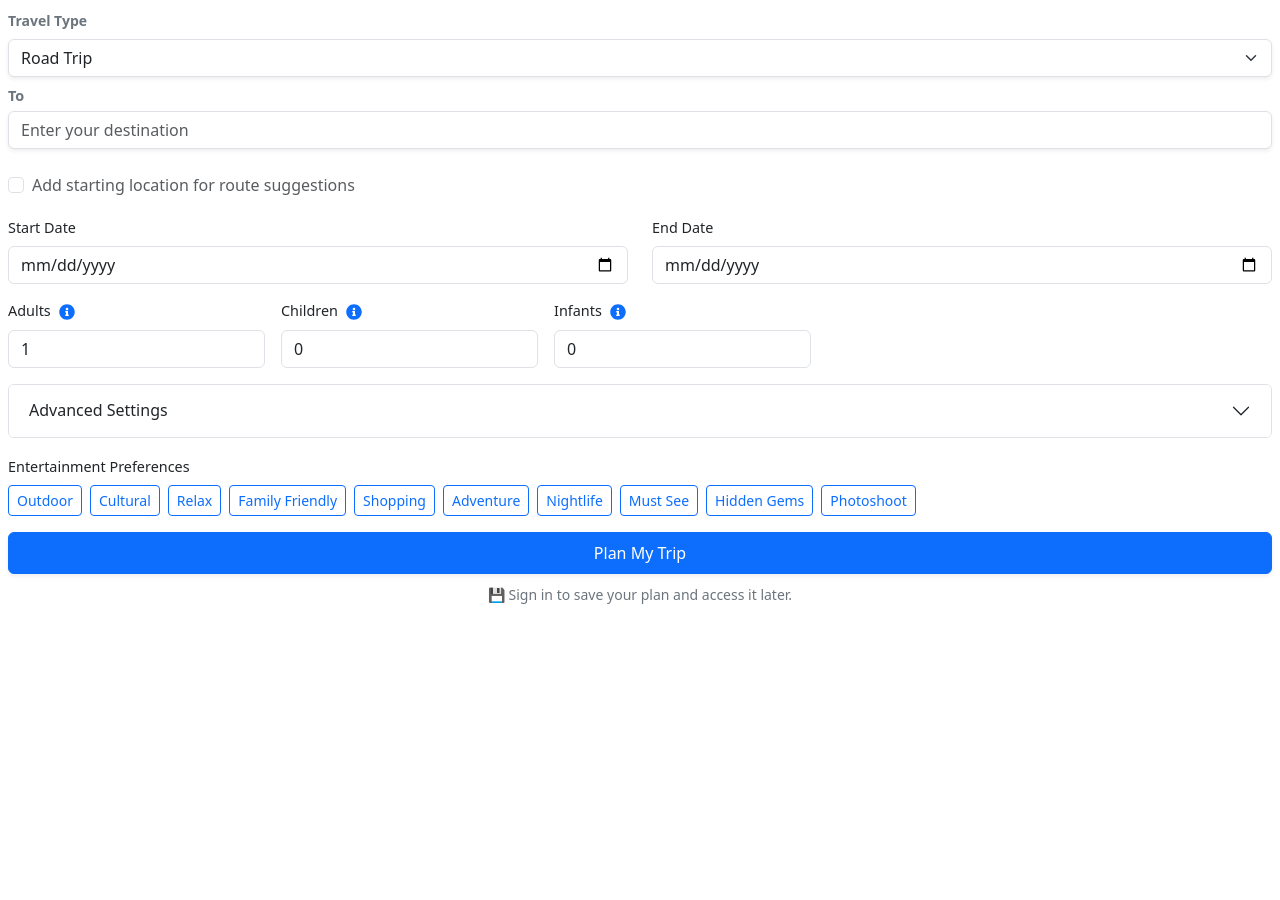
Scenario: TripForm Photoshoot Feature › hides photoshoot mode dropdown when photoshoot preference is deselected
Note: Select photoshoot preference
Click the button "photoshoot" at {"x": 869, "y": 501}, box [821,485,916,516]
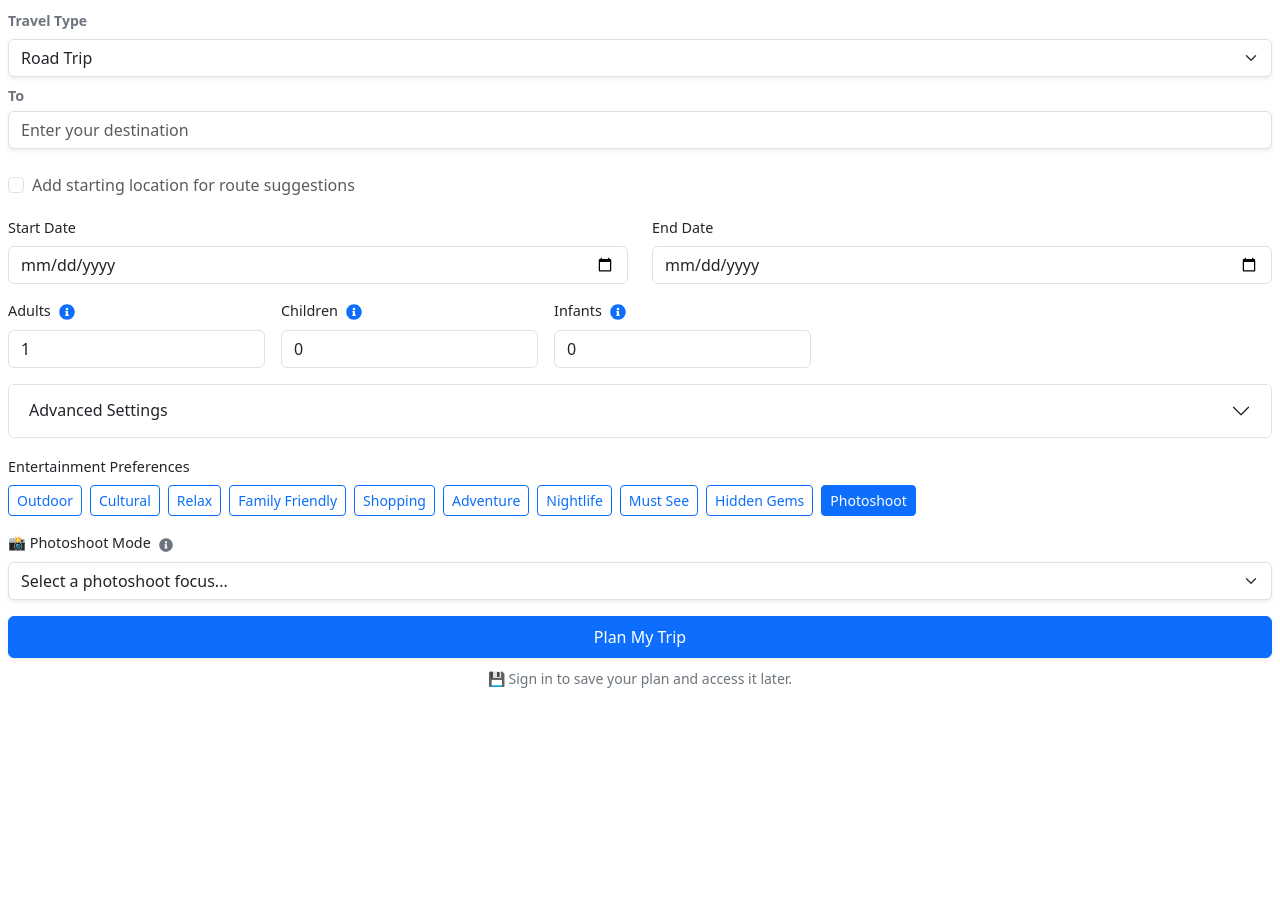
Now the text "📸 Photoshoot Mode" is shown, box [8,533,173,552]
Note: Deselect photoshoot preference
Click the button "photoshoot" at {"x": 869, "y": 501}, box [821,485,916,516]
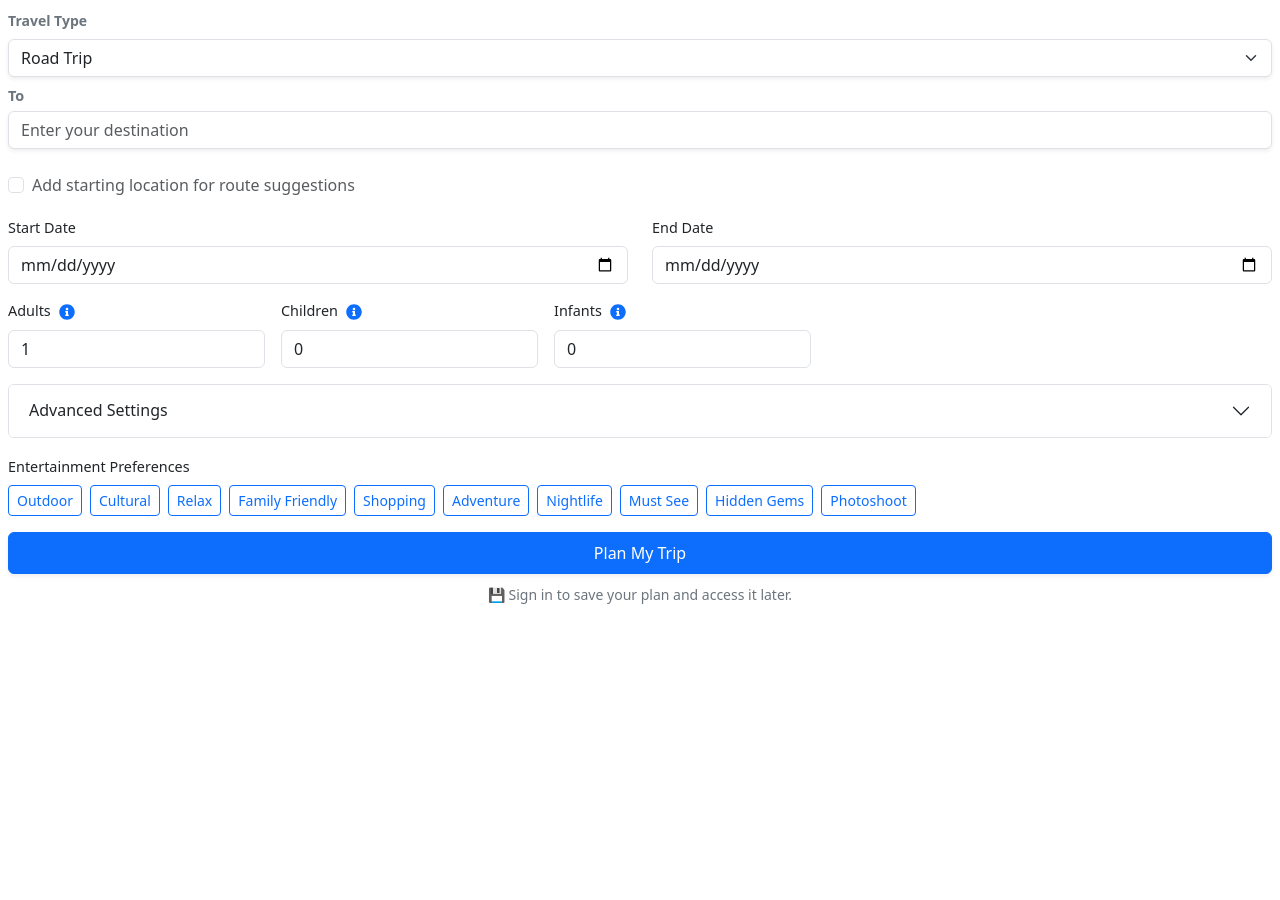
Now the text "📸 Photoshoot Mode" is gone
